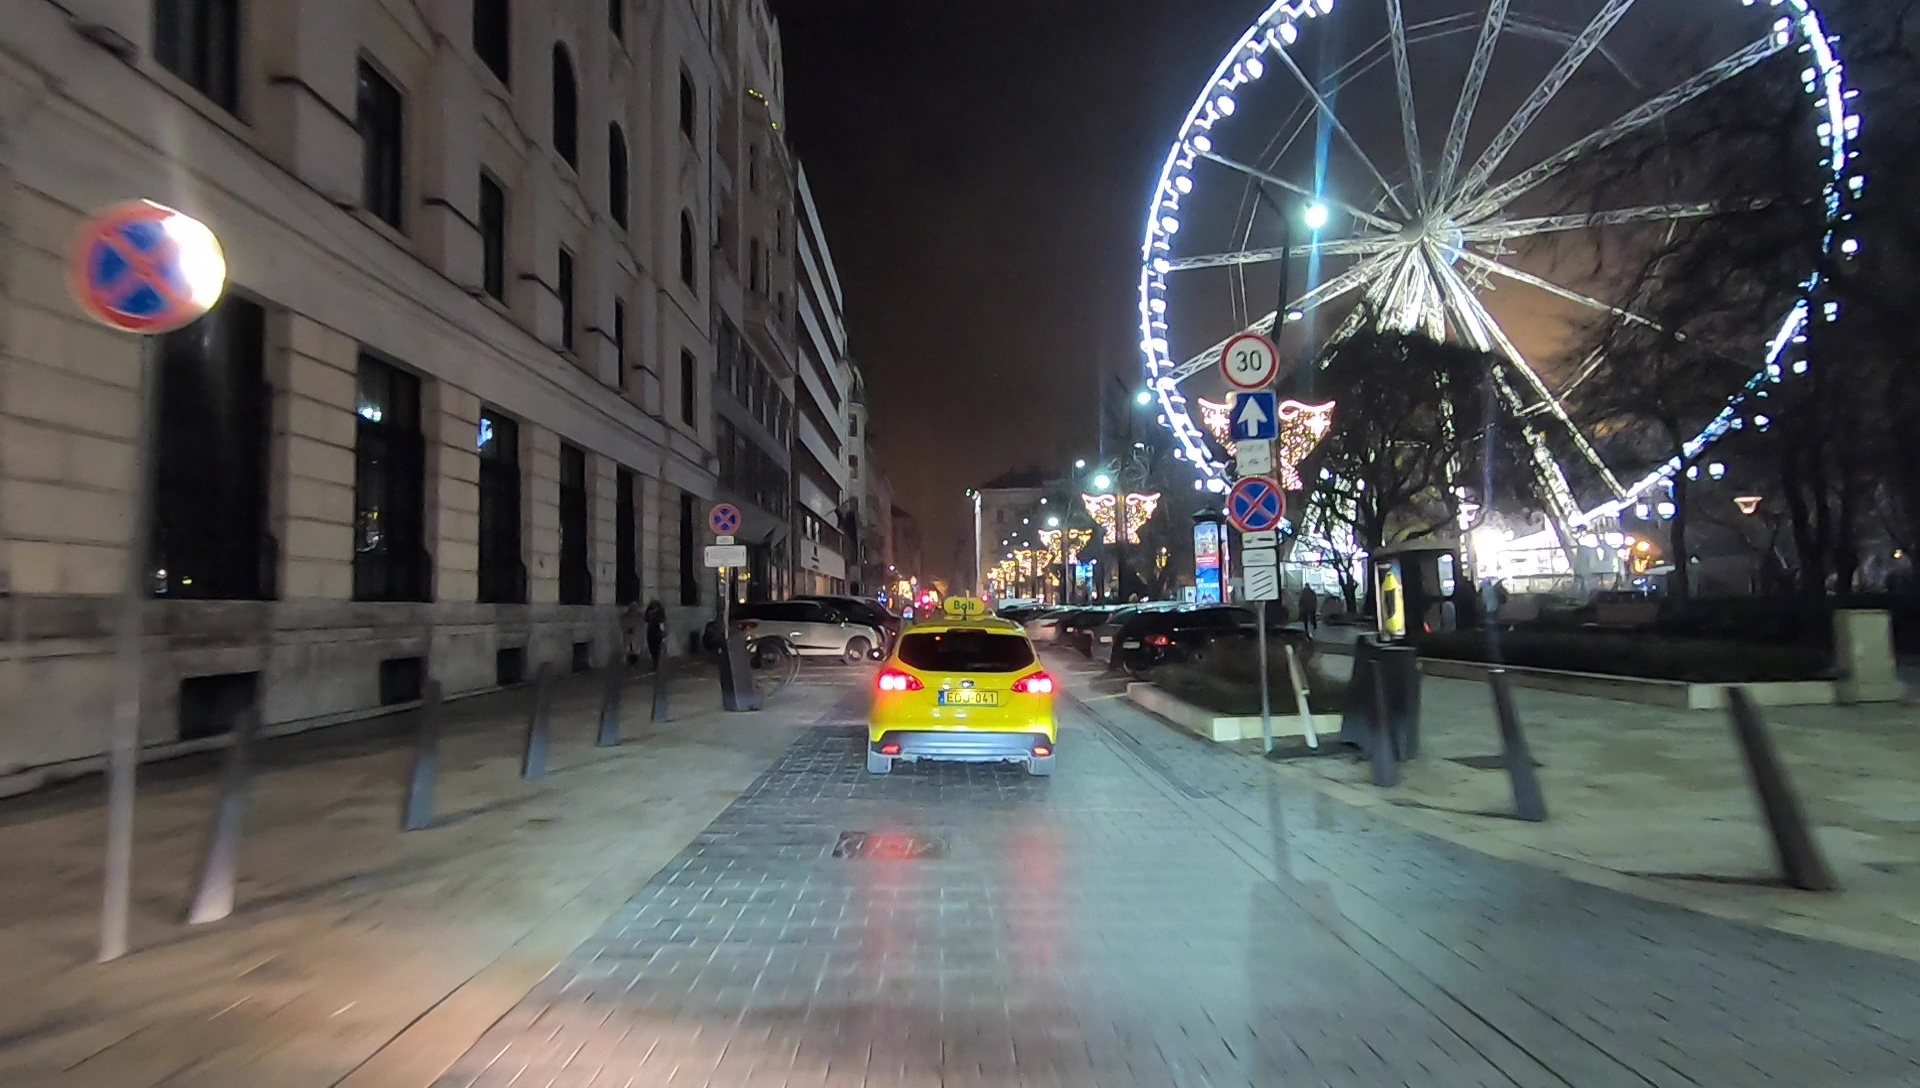person: (645, 600, 667, 667), (1297, 584, 1317, 637)
